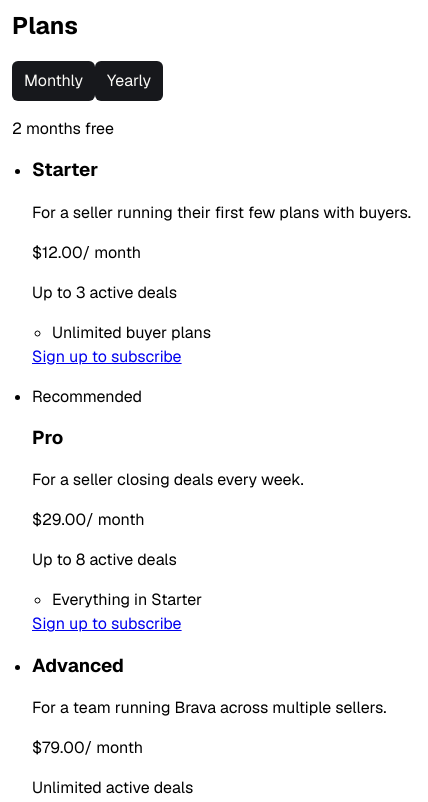
it: PricingTiers — monthly/yearly toggle › re-queries PricePreview with yearly price IDs and renders the new totals when toggled
Check: the text "$29.00" is shown, box [32,509,86,530]
Click the button "Yearly". click: (129, 81)
box: [95,61,163,101]
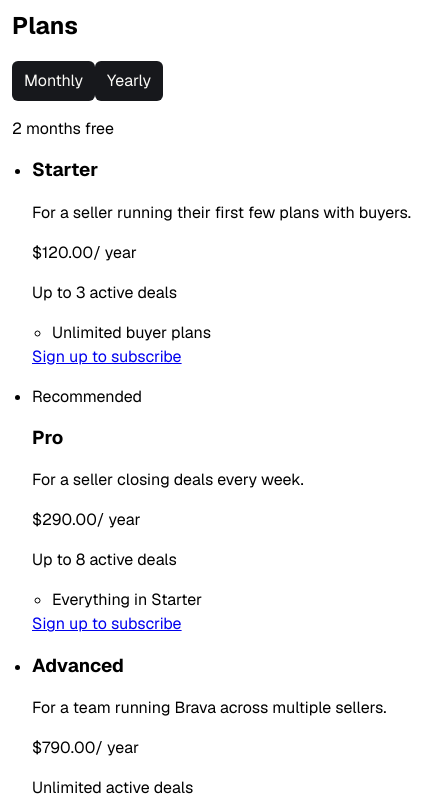
Check: the text "$290.00" is shown, box [32,509,97,530]
